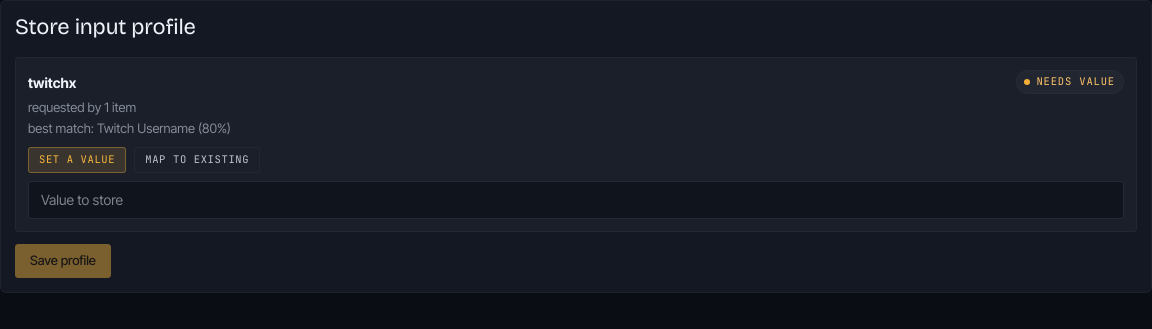
Test: StoreProfileEditor › reports a vanished store once, not against a row that cannot fix it
Click the button with test id "profile-mode-alias-twitchx".
click(197, 160)  # box [134,147,260,173]
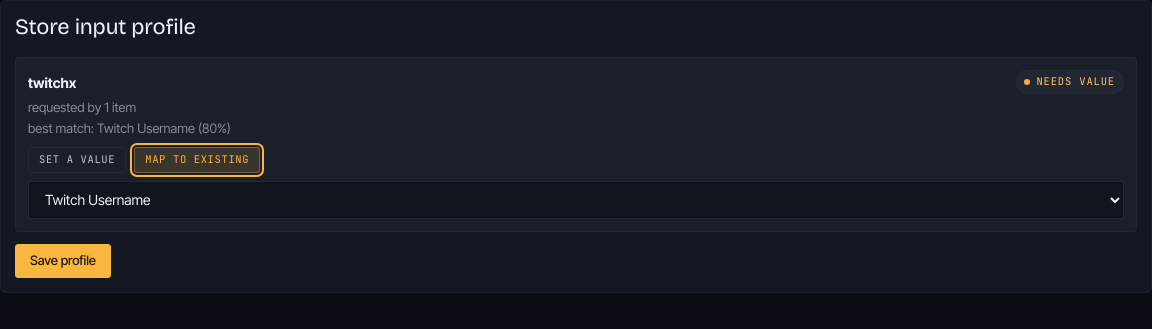
Click the button "Save profile".
click(63, 261)  # box [15,244,111,278]
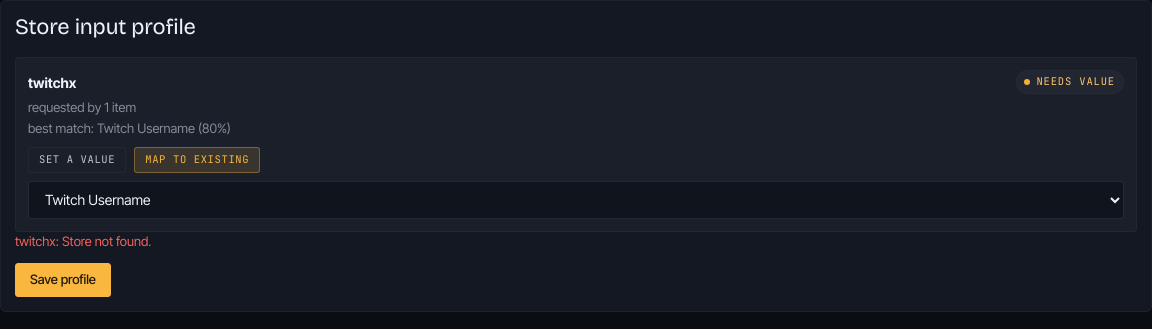
Now the text "twitchx: Store not found." is shown, box [15,233,151,249]
